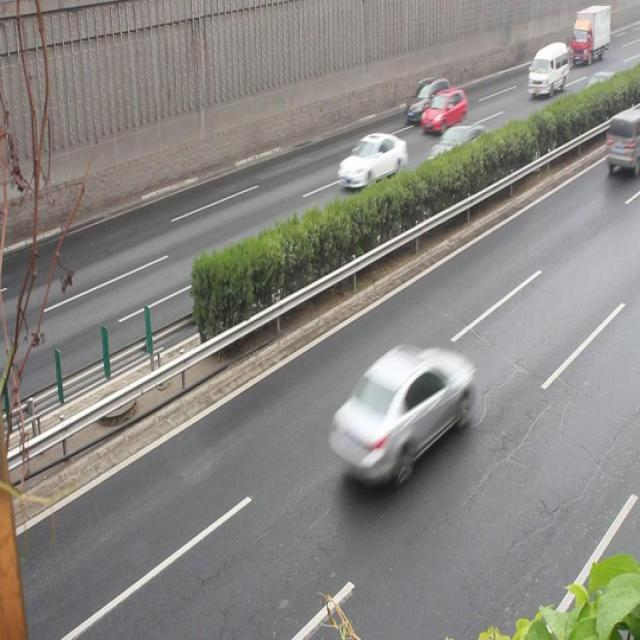car: (326, 344, 473, 484), (336, 130, 406, 190), (425, 123, 494, 183), (419, 84, 463, 133), (405, 75, 449, 123)
